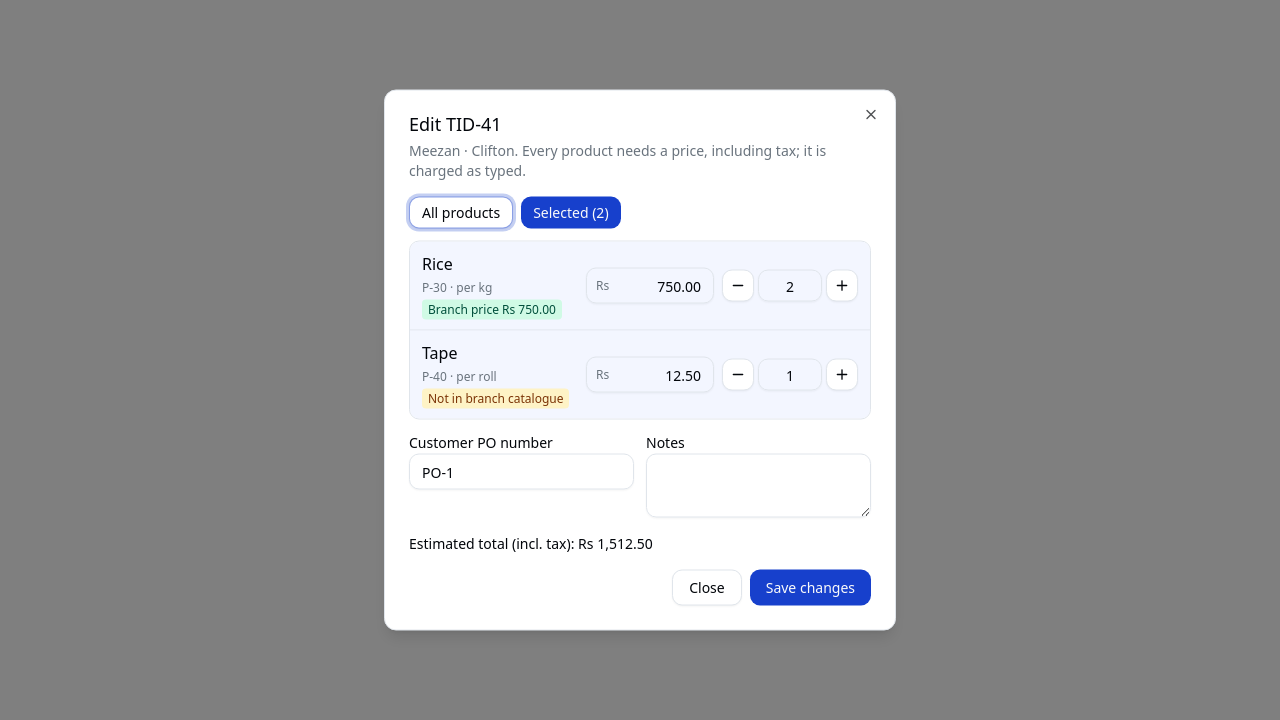
Test case: editing a desk order › refuses a cleared price, and says which product needs one, without sending anything
Clear the field named "Price per kg of Rice, in rupees including tax" at (650, 286), box [586, 268, 714, 304]
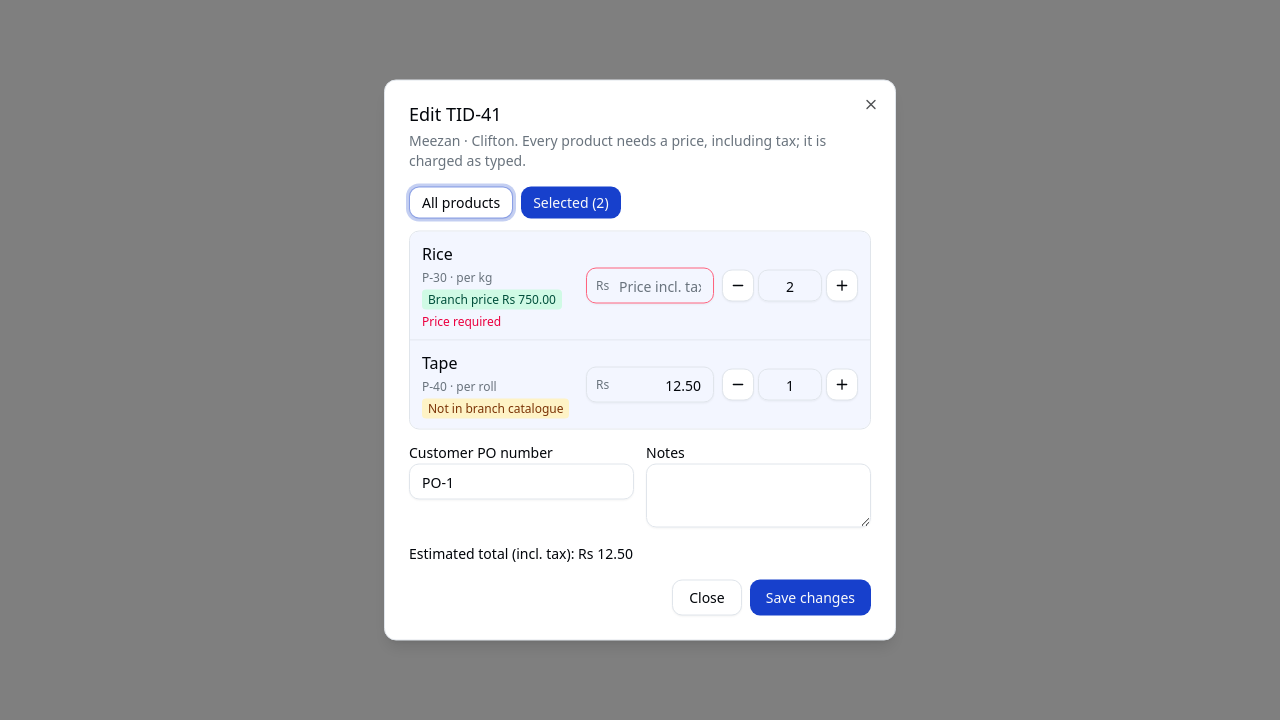
Expected: the text "Price required" is shown, [422, 312, 501, 330]
Click the button "Save changes" at (810, 598), box [750, 580, 871, 616]
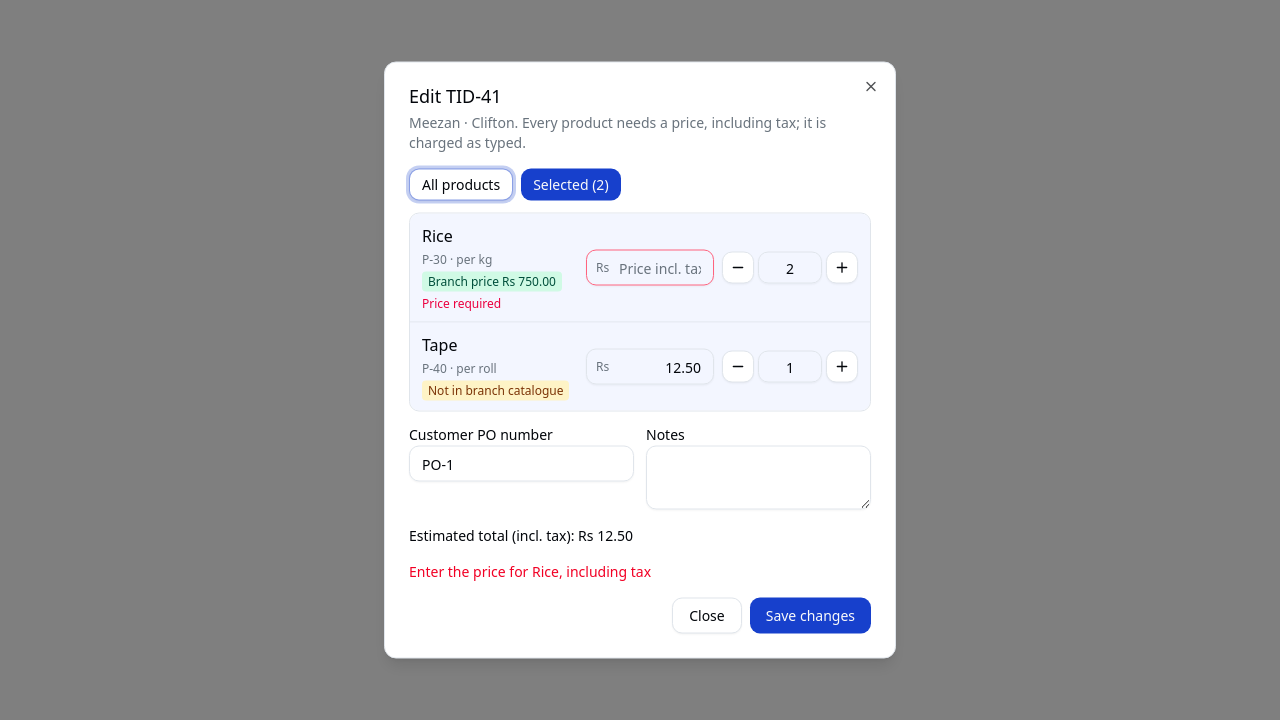
Expected: the text "Enter the price for Rice, including tax" is shown, [409, 562, 651, 580]
